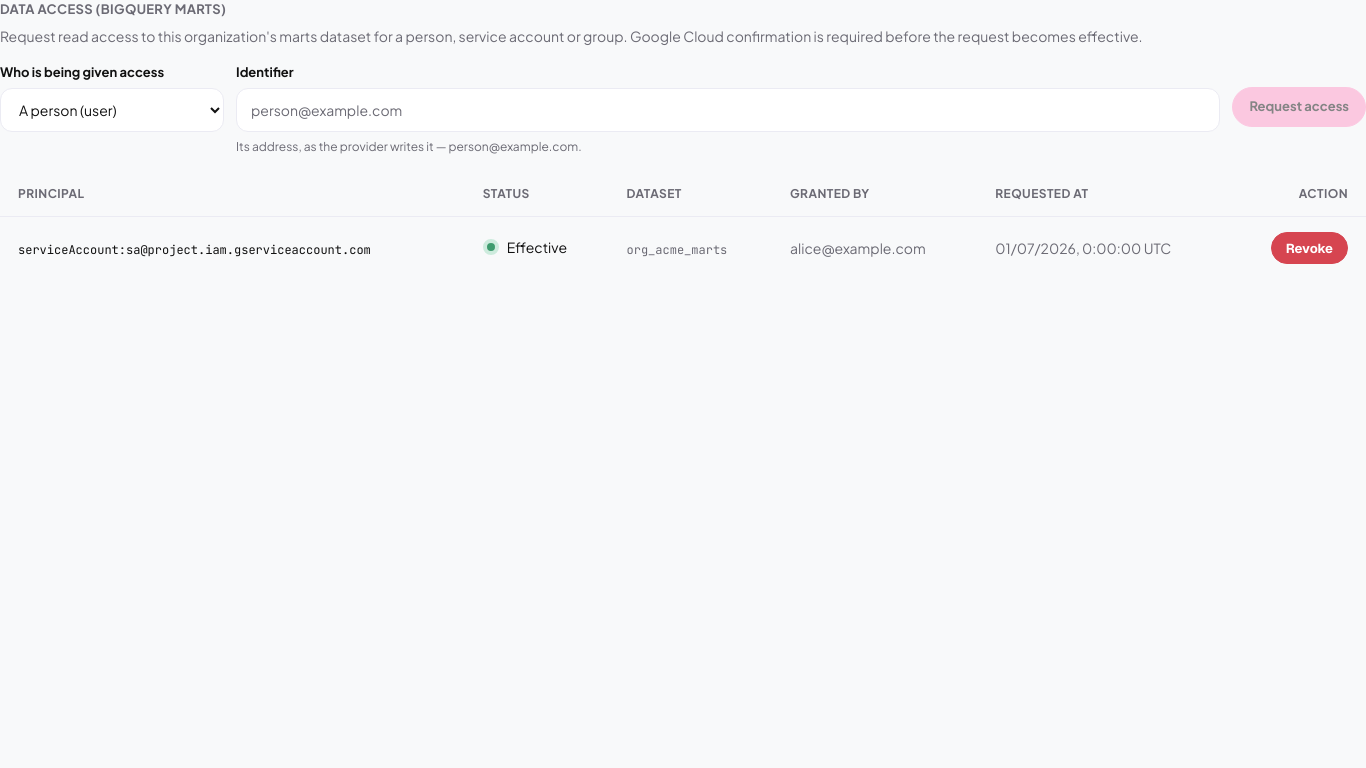
Test: DataAccessGrantsPanel — révocation › envoie DELETE puis la ligne disparaît
Check: the table with test id "data-access-grants-table" is shown, box [0,172,1365,280]
Click the button "Revoke" at (1309, 248), box [1271,232,1348,264]
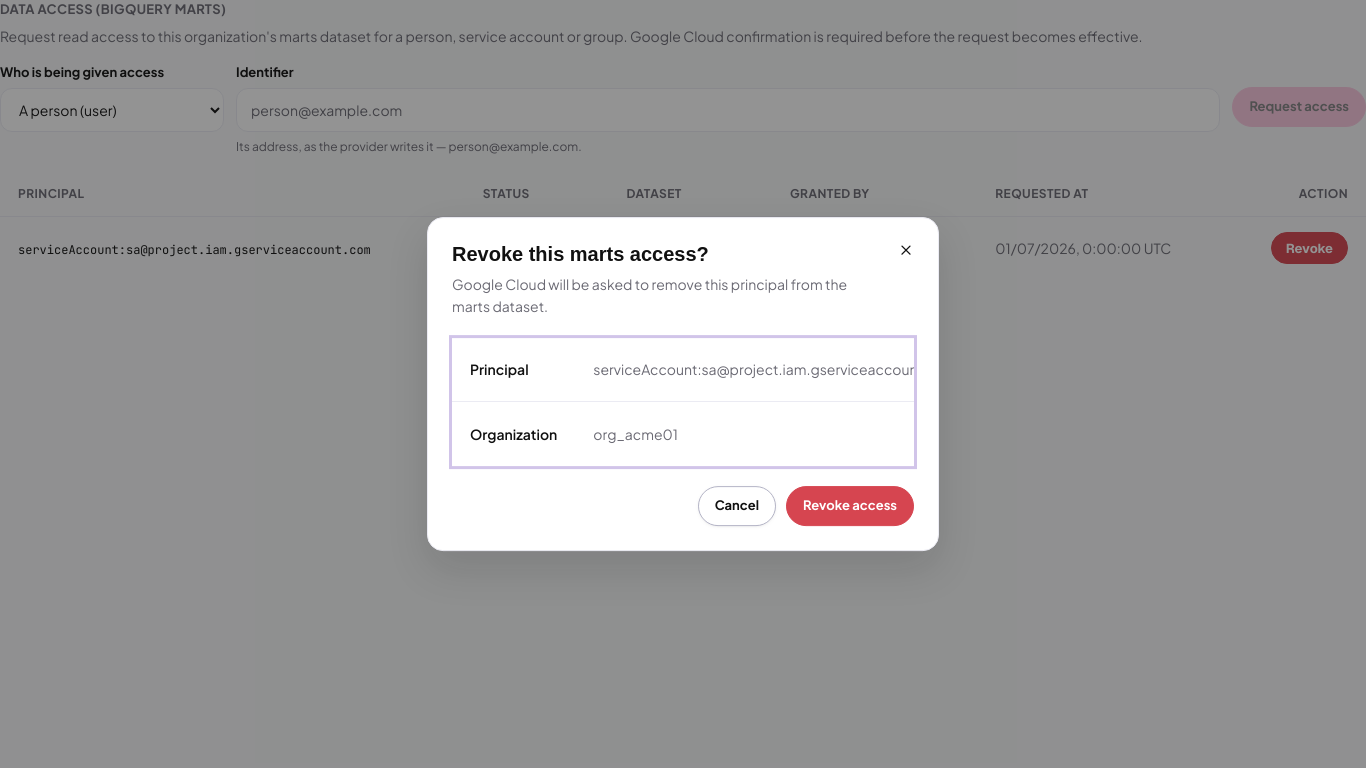
Check: the heading "Revoke this marts access?" is shown, box [452,243,709,265]
Click the button "Revoke access" at (850, 506), box [786,486,914,526]
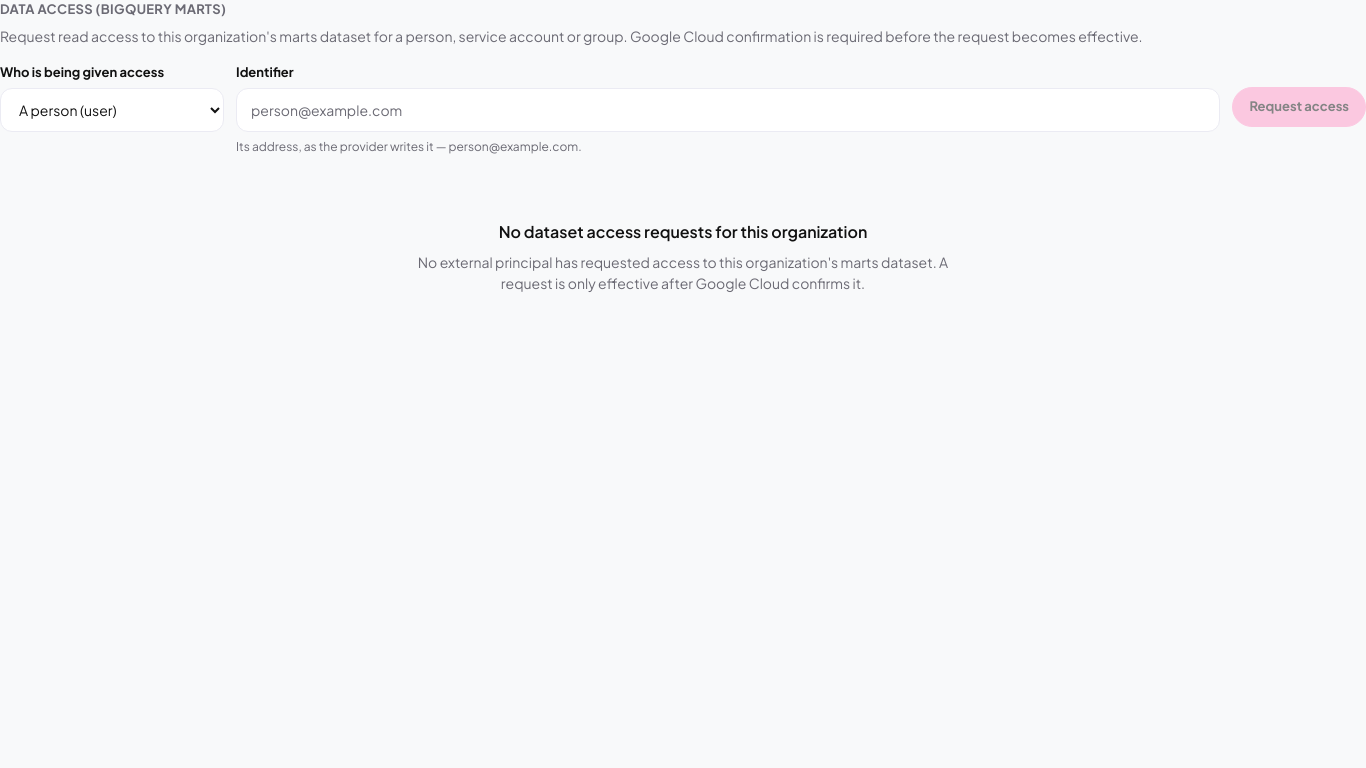
Check: the element with test id "data-access-empty" is shown, box [418,221,948,292]
Check: the table with test id "data-access-grants-table" is gone
